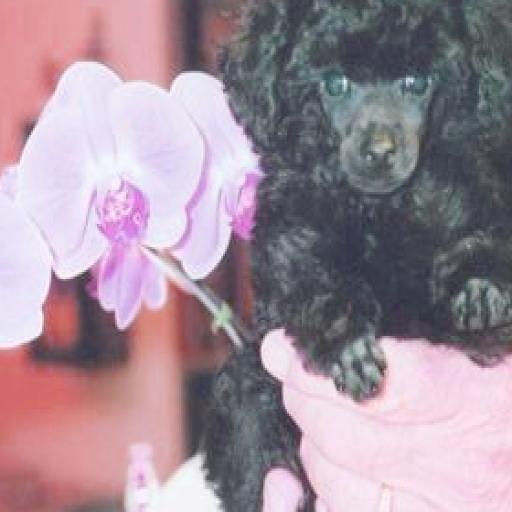dog_face: (243, 0, 502, 187)
